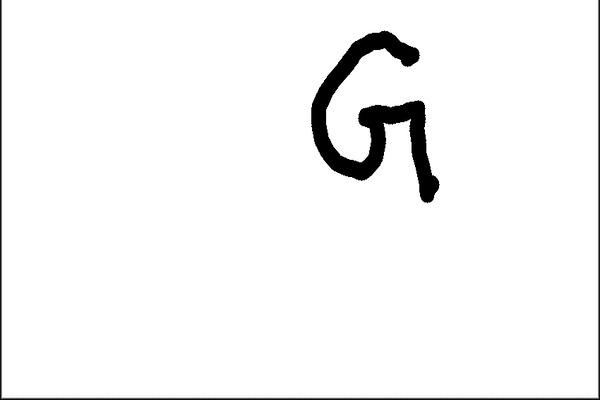G: (306, 24, 444, 207)
